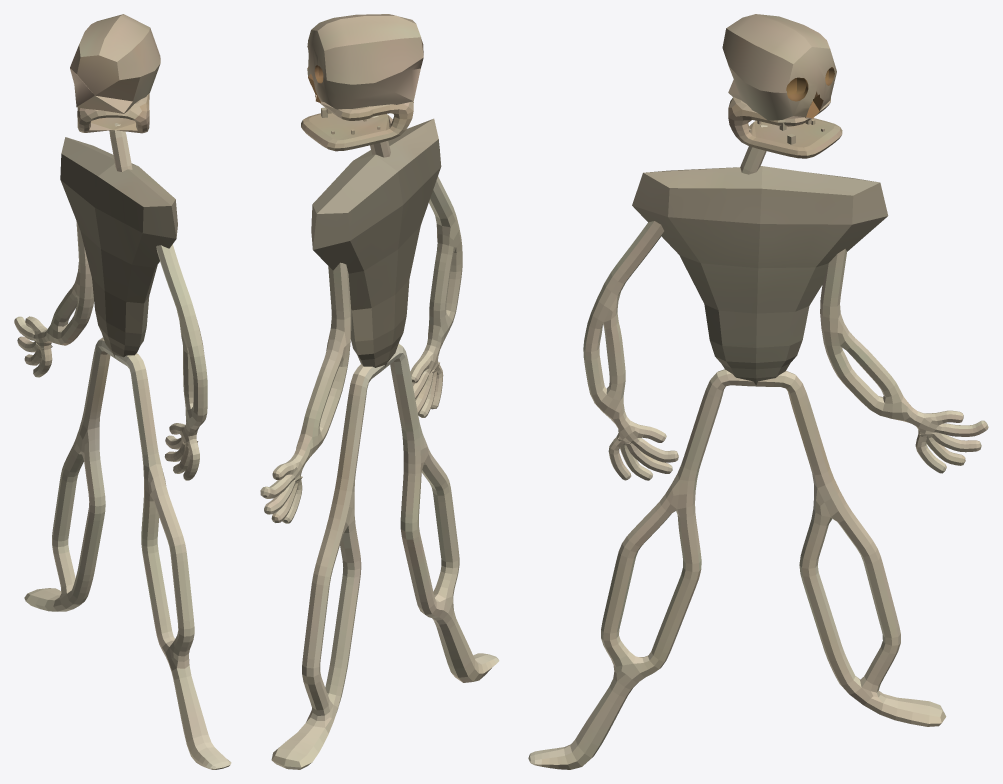
File: Esqueleto Enemigo Exportacion.fbx
3 renders of one model, left to right at view 1: azimuth 30°, elevation 25°; view 2: azimuth 150°, elevation 25°; view 3: azimuth 270°, elevation 25°, orthographic. The views are drawn at different scales.
Visible parts, largest first — view 1: Esqueleto, Craneo; view 2: Esqueleto, Craneo; view 3: Esqueleto, Craneo.
Boxes of the visible parts, <box> form: Esqueleto: <box>14,123,231,769</box>; Craneo: <box>70,14,160,133</box>; Esqueleto: <box>260,115,499,769</box>; Craneo: <box>301,14,423,151</box>; Esqueleto: <box>528,124,988,769</box>; Craneo: <box>722,14,842,158</box>.
Bounding box in the file's own units: 110 × 766 × 428.
Materials: 3 (3 with a texture image).
